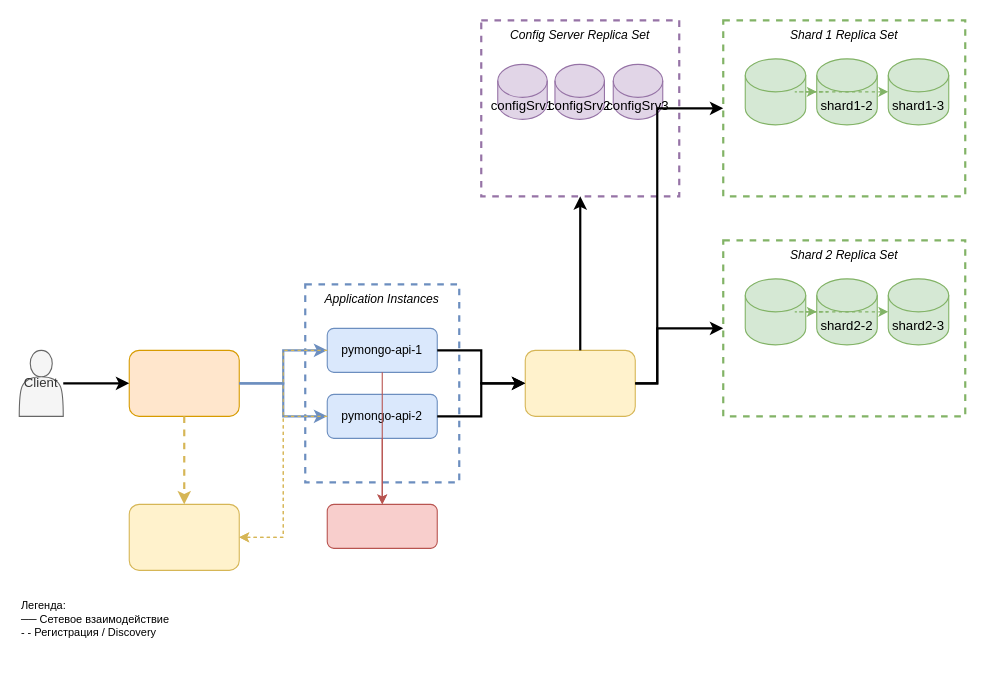
The diagram is 986 pixels wide and 677 high, and some of its shapes have lost their labels. The centre of each missing label's shape, as x and y in pixels:
"API Gateway (nginx)" goes at (x=183, y=382).
"Consul (Service Discovery)" goes at (x=183, y=536).
"mongos_router" goes at (x=579, y=382).
"redis" goes at (x=381, y=525).
"shard1-1 (primary)" goes at (x=775, y=91).
"shard2-1 (primary)" goes at (x=775, y=311).
